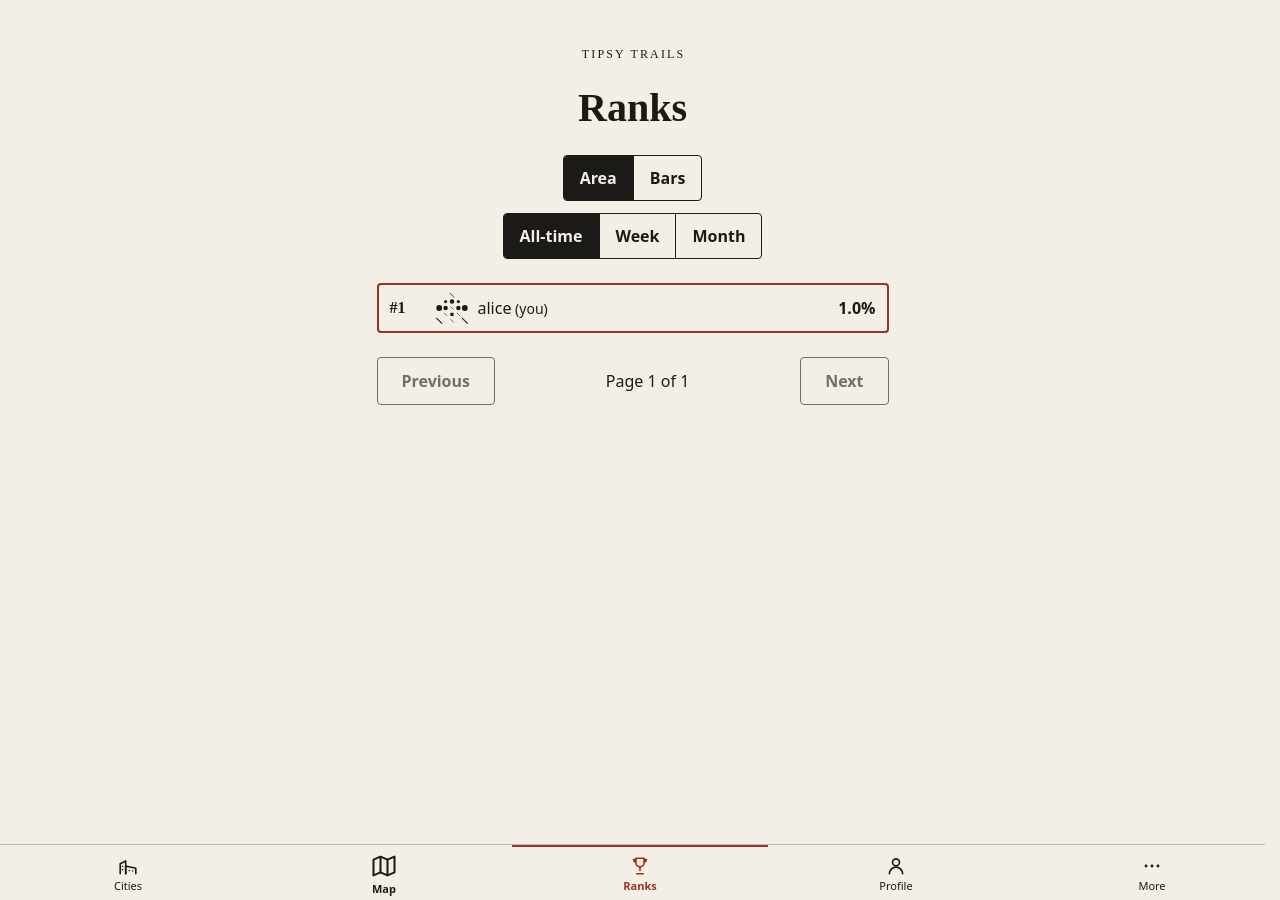
it: leaderboard › reflects a toggled anonymity setting on the next leaderboard view without a reload
The width and height of the screenshot is (1280, 900).
Expected: the element with class "leaderboard__name" shows "alice", [478,297,511,319]
Expected: the element with class "leaderboard__name" does not show "Player #9"
Click the button "More" at point(1152, 872), box [1024,845,1279,899]
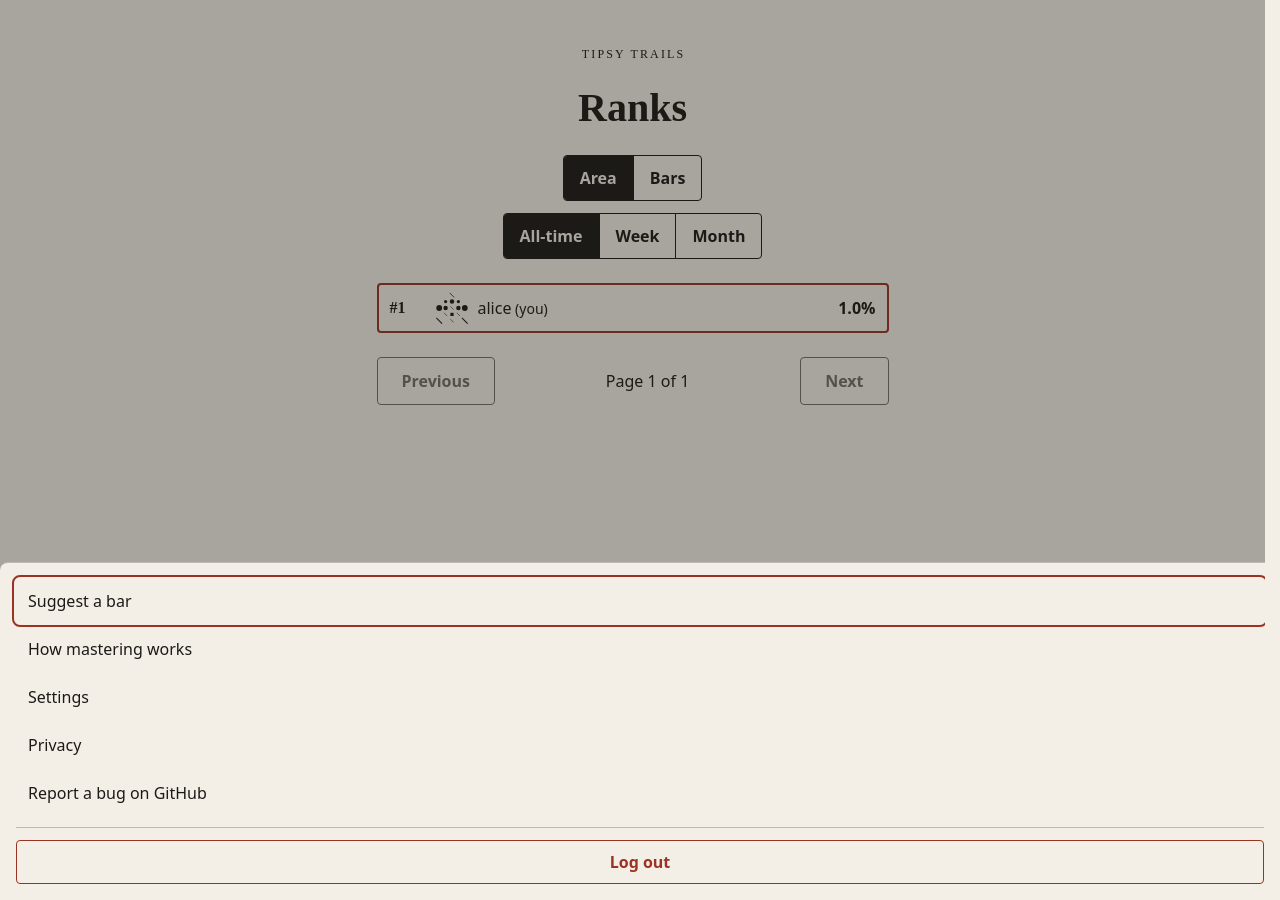
Click the link "Settings" at point(58, 697), box [28,686,89,708]
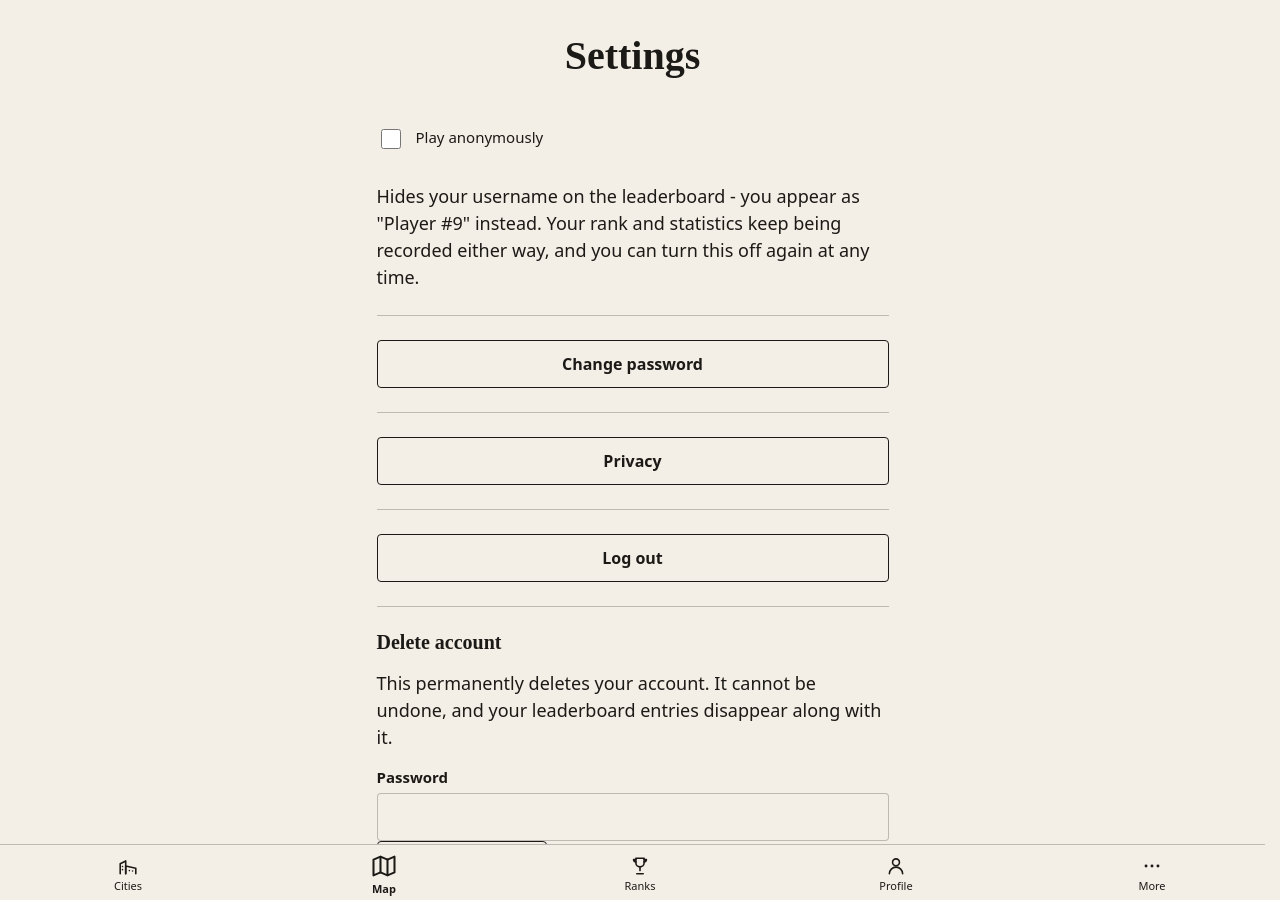
Click the checkbox with id "settings-anonymous" at point(390, 139), box [380,129,400,149]
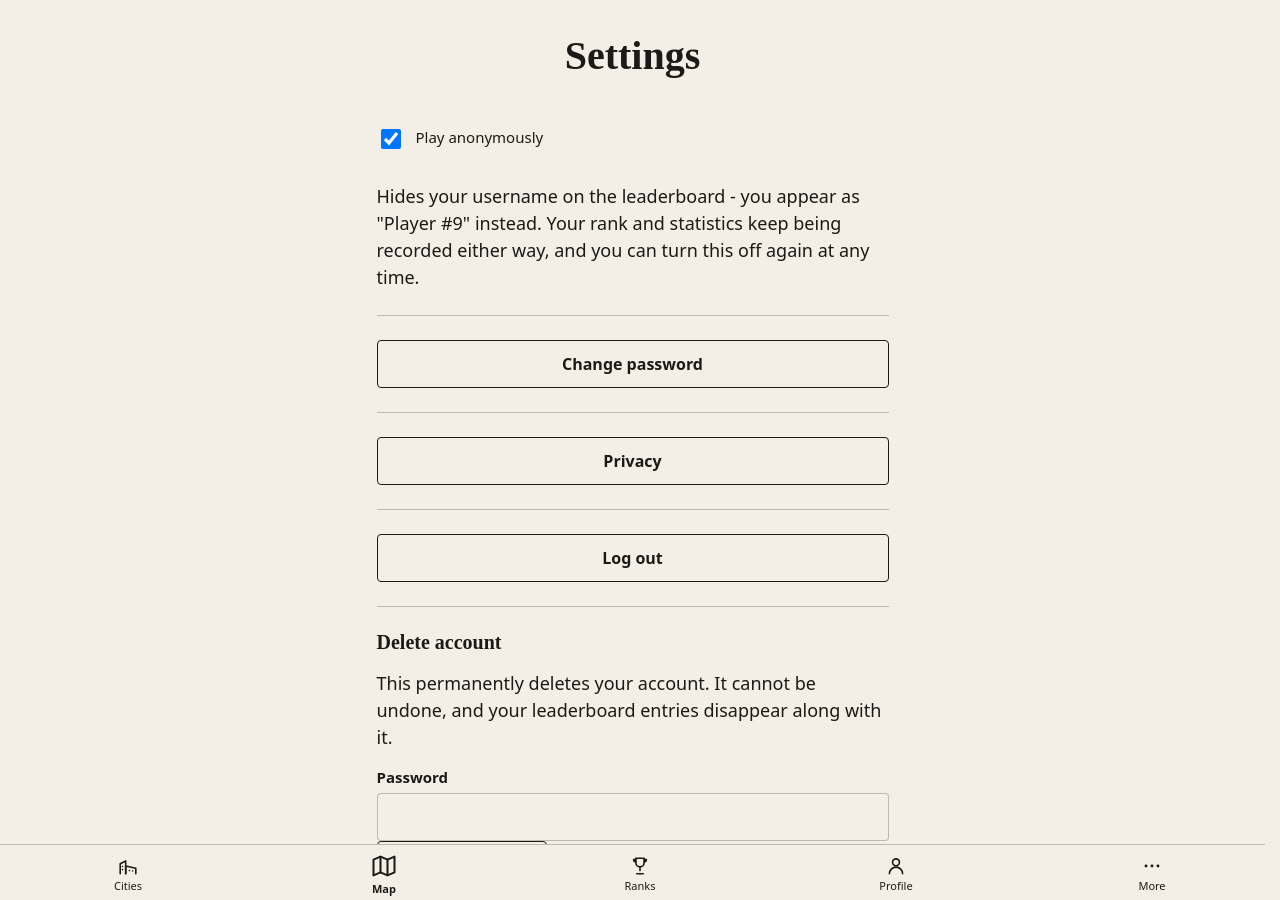
Expected: the checkbox with id "settings-anonymous" is checked, [380,129,400,149]
Click the link "Ranks" at point(640, 874), box [624,854,656,892]
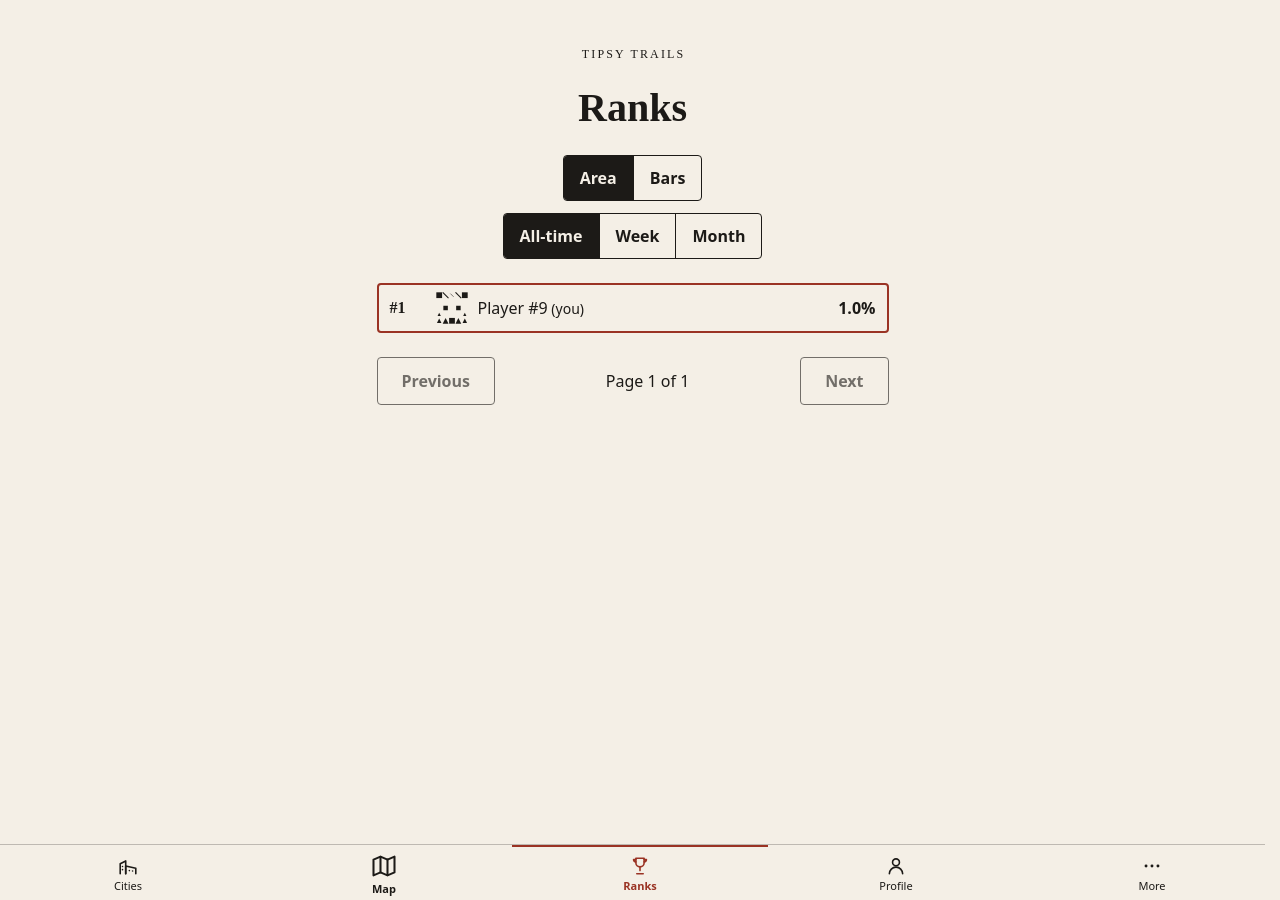
Expected: the element with class "leaderboard__name" shows "Player #9", [478,297,548,319]
